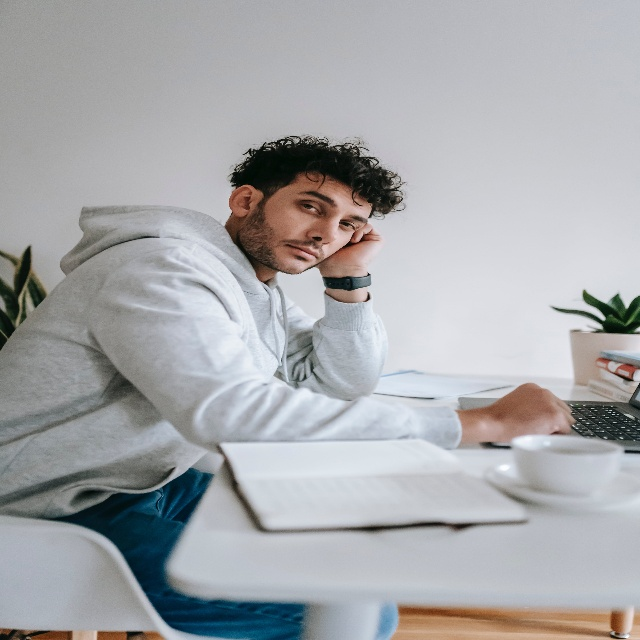Sin_guantes: (486, 382, 576, 444), (314, 222, 385, 276)
